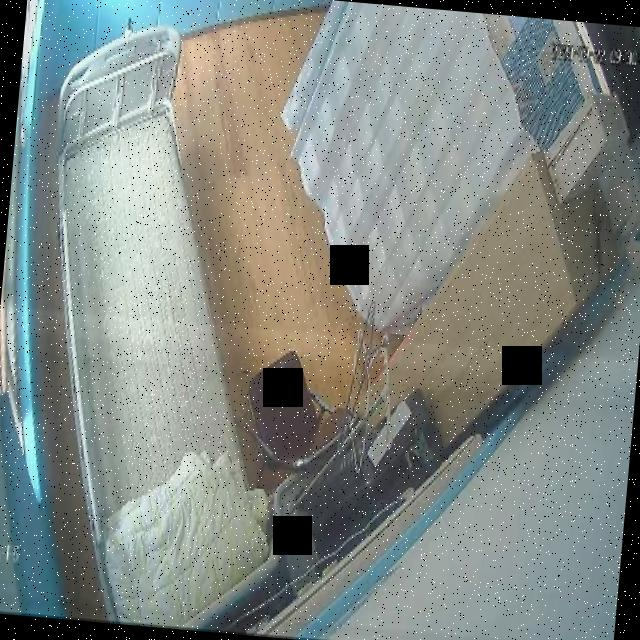bed: (14, 10, 308, 632)
